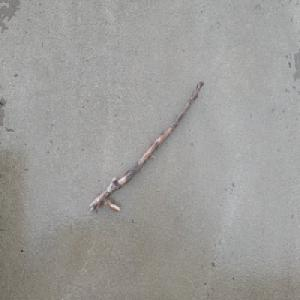Wood: (88, 79, 205, 213)
